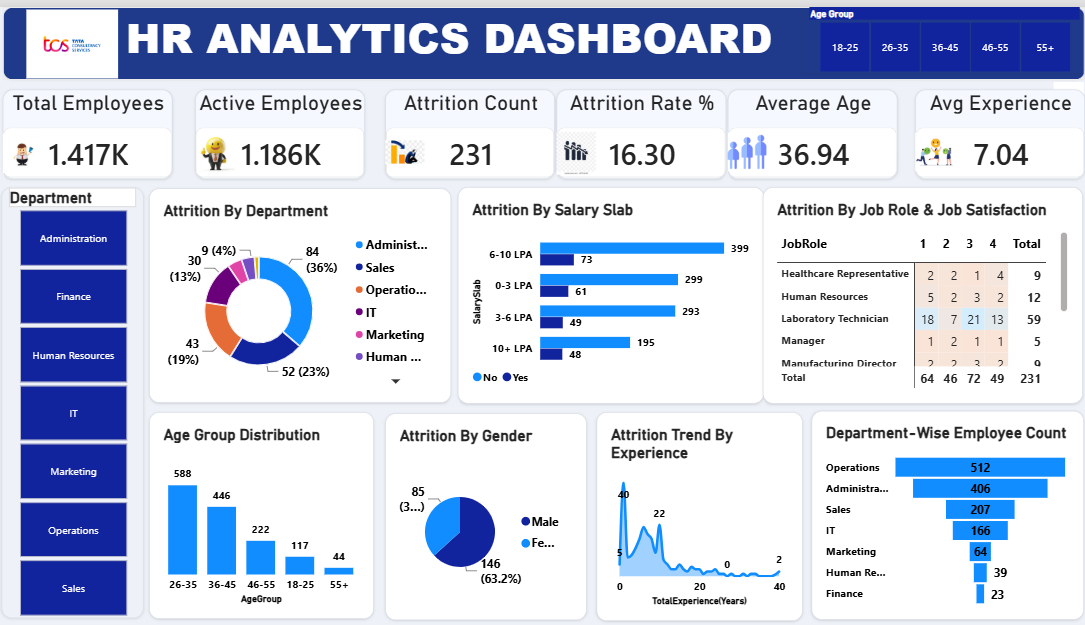

This screenshot's page, from the dashboard's own definition file:
{"tool":"powerbi","page":{"name":"Page 1","canvas":[1920,1080],"ordinal":0},"visuals":[{"type":"textbox","box":[10,0,1255,85],"z":0},{"type":"image","box":[0,0,98.9,85.6],"z":1000},{"type":"cardVisual","title":"Total Employees","fields":{"Data":["CountNonNull(HR_Analytics-4.EmpID)"]},"box":[10,95,197,104],"z":2000},{"type":"cardVisual","title":"Active Employees","fields":{"Data":["CountNonNull(HR_Analytics-4.EmployeeCount)"]},"box":[234,96,197,104],"z":3000},{"type":"cardVisual","title":"Attrition Count","fields":{"Data":["Sum(HR_Analytics-4.AttritionCount)"]},"box":[454,96,197,104],"z":4000},{"type":"cardVisual","title":"Average Age ","fields":{"Data":["Avg(HR_Analytics-4.Age)"]},"box":[850,96,197,104],"z":5000},{"type":"cardVisual","title":"Attrition Rate %","fields":{"Data":["HR_Analytics-4.Attrition Rate %"]},"box":[652,96,197,104],"z":6000},{"type":"cardVisual","title":"Avg Experience","fields":{"Data":["Avg(HR_Analytics-4.YearsatCompany)"]},"box":[1068,96,197,104],"z":7000},{"type":"image","box":[10,138.6,45.7,61.4],"z":8000},{"type":"image","box":[234.3,138.6,45,61.4],"z":9000},{"type":"image","box":[454.1,137.7,45.7,61],"z":10000},{"type":"image","box":[652.5,139.3,45.7,61],"z":11000},{"type":"image","box":[850.8,137.7,45,61],"z":12000},{"type":"image","box":[1067.5,137.7,45,61],"z":13000},{"type":"donutChart","title":"Attrition By Department","fields":{"Category":["HR_Analytics-4.Department"],"Y":["Sum(HR_Analytics-4.AttritionCount)"]},"box":[179,210,350,249],"z":14000},{"type":"clusteredBarChart","title":"Attrition By Salary Slab","fields":{"Category":["HR_Analytics-4.SalarySlab"],"Series":["HR_Analytics-4.Attrition"],"Y":["CountNonNull(HR_Analytics-4.EmpID)"]},"box":[537,209,355,251],"z":15000},{"type":"pivotTable","title":"Attrition By Job Role & Job Satisfaction","fields":{"Columns":["HR_Analytics-4.JobSatisfaction"],"Rows":["HR_Analytics-4.JobRole"],"Values":["Sum(HR_Analytics-4.AttritionCount)"]},"box":[892,209,371,251],"z":16000},{"type":"columnChart","title":"Age Group Distribution","fields":{"Category":["HR_Analytics-4.AgeGroup"],"Y":["CountNonNull(HR_Analytics-4.EmpID)"]},"box":[179,469,261,240],"z":17000},{"type":"pieChart","title":"Attrition By Gender","fields":{"Category":["HR_Analytics-4.Gender"],"Y":["Sum(HR_Analytics-4.AttritionCount)"]},"box":[453.8,471.2,233.8,240],"z":18000},{"type":"areaChart","title":"Attrition Trend By Experience","fields":{"Category":["HR_Analytics-4.TotalExperience(Years)"],"Y2":["Sum(HR_Analytics-4.AttritionCount)"]},"box":[698.8,470,239,242],"z":19000},{"type":"funnel","title":"Department-Wise Employee Count","fields":{"Category":["HR_Analytics-4.Department"],"Y":["CountNonNull(HR_Analytics-4.EmpID)"]},"box":[947.5,468.8,316.2,242.5],"z":20000},{"type":"slicer","fields":{"Values":["HR_Analytics-4.Department"]},"box":[9,209,165,500],"z":21000},{"type":"slicer","fields":{"Values":["HR_Analytics-4.AgeGroup"]},"box":[937.5,0,328.6,76.8],"z":22000}]}

Visuals, with their boxes in screenshot pixels (x1, y1, x2, y2), scaled from the page's 1920x1080 canvas onto the 1085x625 screenshot:
textbox: 6:0:715:49
image: 0:0:56:50
"Total Employees" cardVisual: 6:55:117:115
"Active Employees" cardVisual: 132:56:244:116
"Attrition Count" cardVisual: 257:56:368:116
"Average Age " cardVisual: 480:56:592:116
"Attrition Rate %" cardVisual: 368:56:480:116
"Avg Experience" cardVisual: 604:56:715:116
image: 6:80:31:116
image: 132:80:158:116
image: 257:80:282:115
image: 369:81:395:116
image: 481:80:506:115
image: 603:80:629:115
"Attrition By Department" donutChart: 101:122:299:266
"Attrition By Salary Slab" clusteredBarChart: 303:121:504:266
"Attrition By Job Role & Job Satisfaction" pivotTable: 504:121:714:266
"Age Group Distribution" columnChart: 101:271:249:410
"Attrition By Gender" pieChart: 256:273:389:412
"Attrition Trend By Experience" areaChart: 395:272:530:412
"Department-Wise Employee Count" funnel: 535:271:714:412
slicer - HR_Analytics-4.Department: 5:121:98:410
slicer - HR_Analytics-4.AgeGroup: 530:0:715:44
